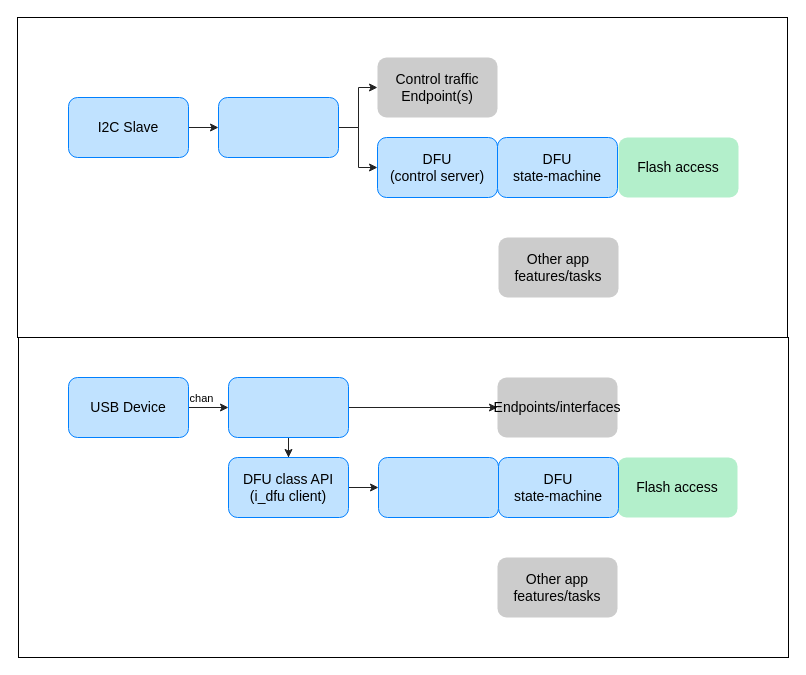
This 806x675 diagram has some shape labels left out. Here are the shapes that lost their labels. From the top down, the centre of each, then its label:
At point 278,127: "I2C control clients (demultiplexer)".
At point 288,407: "Endpoint0".
At point 438,487: "DFU (i_dfu server) [distributable]".
